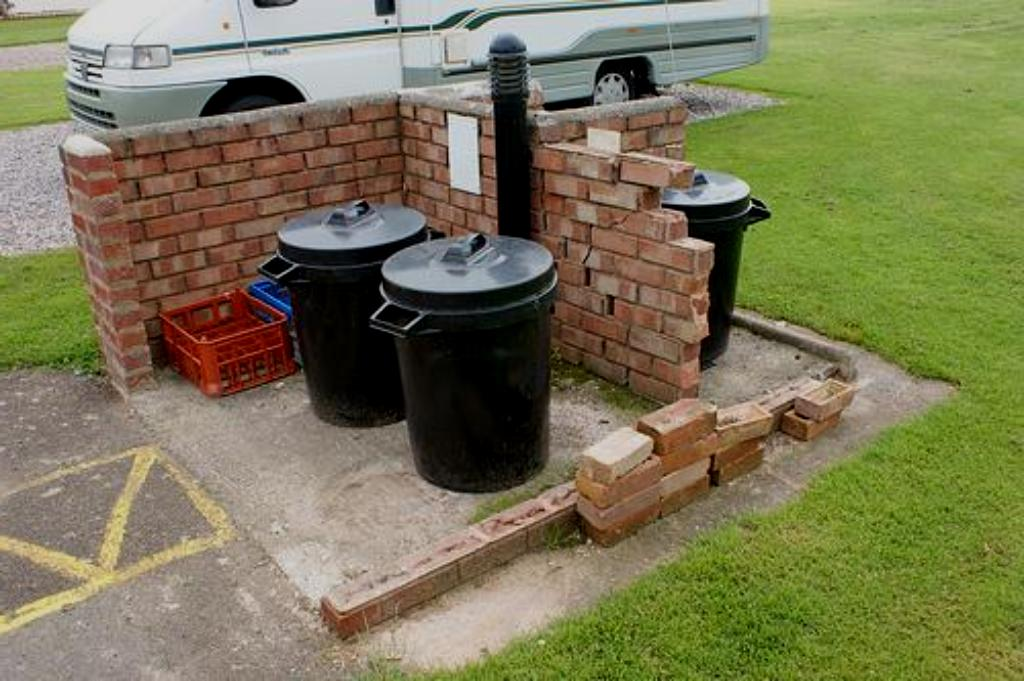dustbin: (373, 225, 558, 512), (272, 202, 415, 434)
